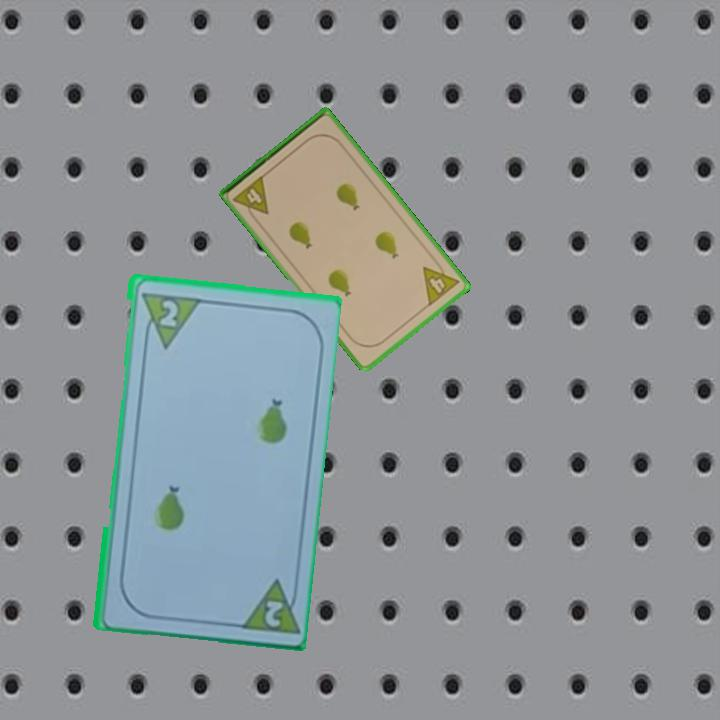2p: (260, 596, 288, 630), (153, 296, 180, 330)
4p: (419, 255, 462, 309), (229, 172, 272, 224)
